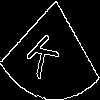K: (25, 25, 66, 80)
